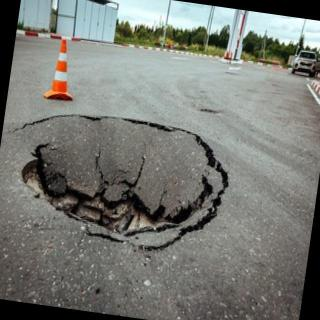pothole: (19, 116, 230, 252)
